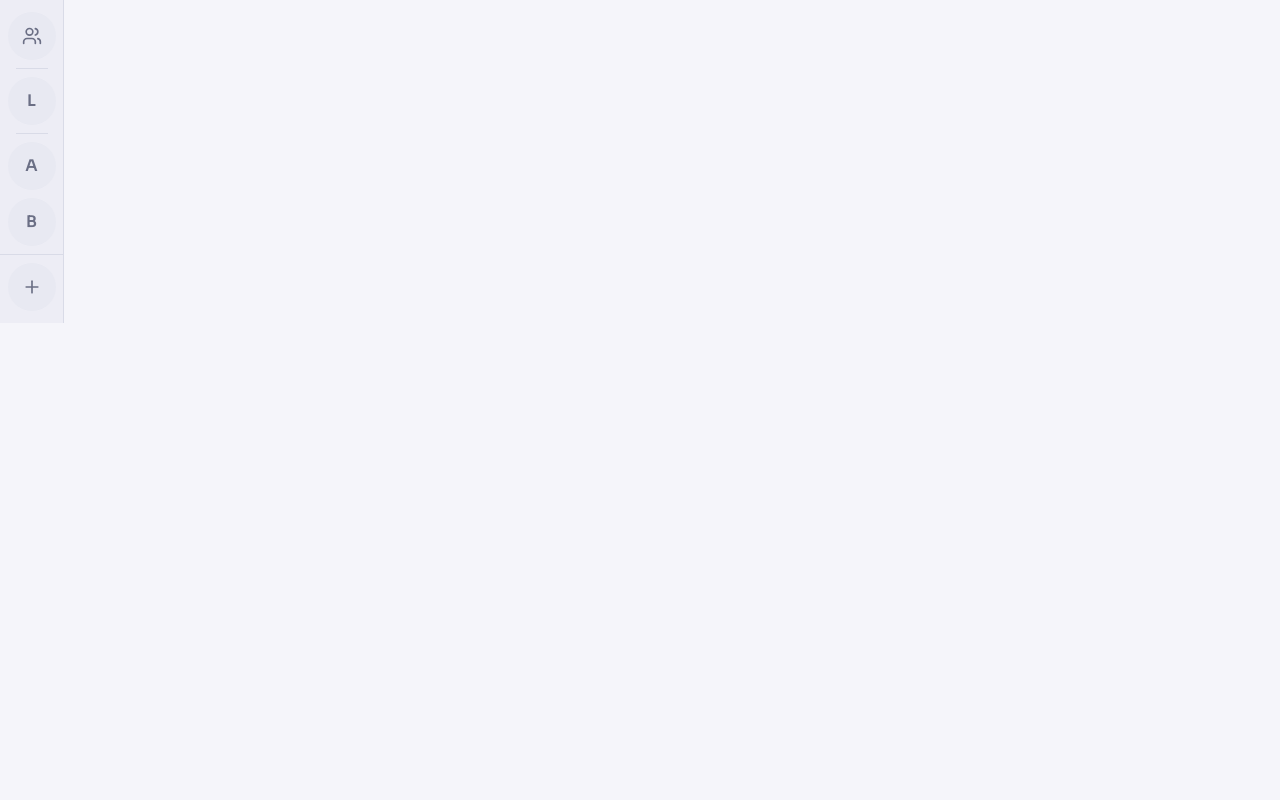
Test: ServerSidebar › opens the create server modal
Step 1. Click the button named "Create server" → {"x": 32, "y": 287}, box [8,263,56,311]
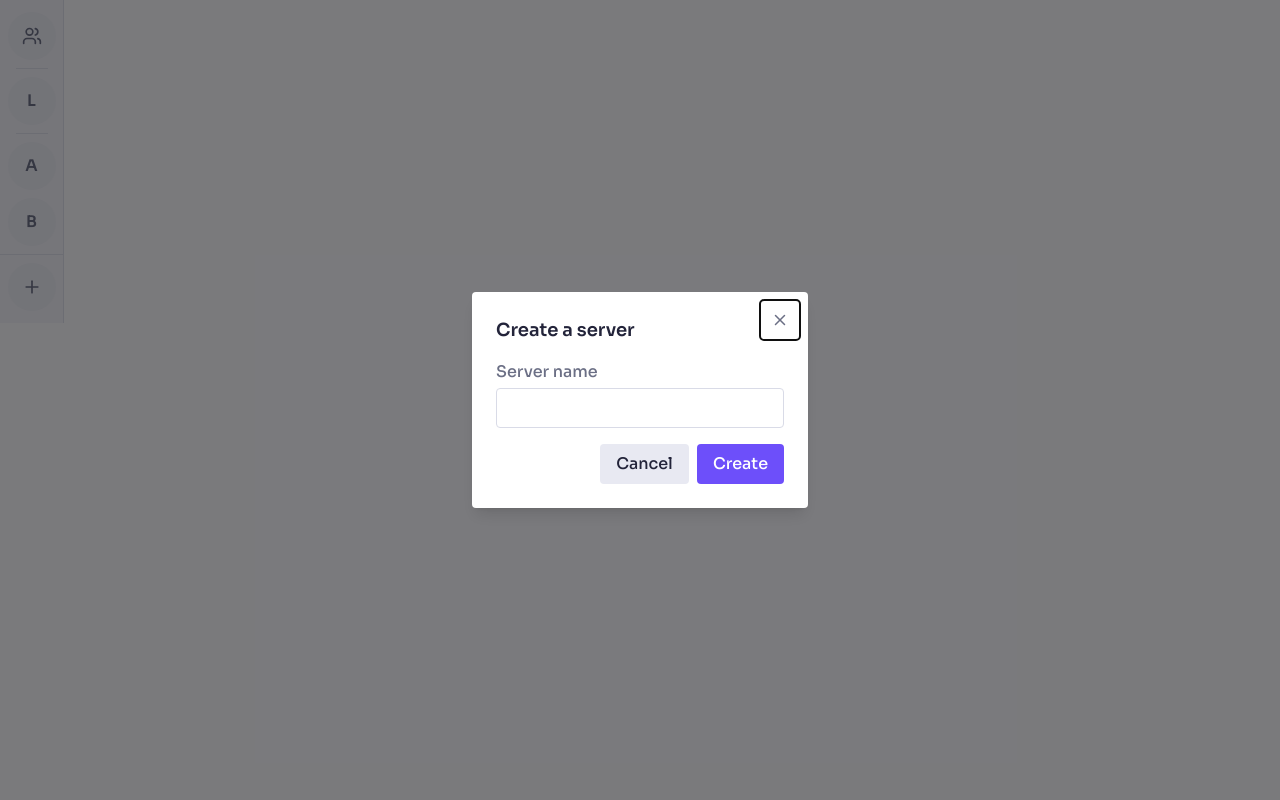
Now the heading "Create a server" is shown, box [496,319,635,341]
